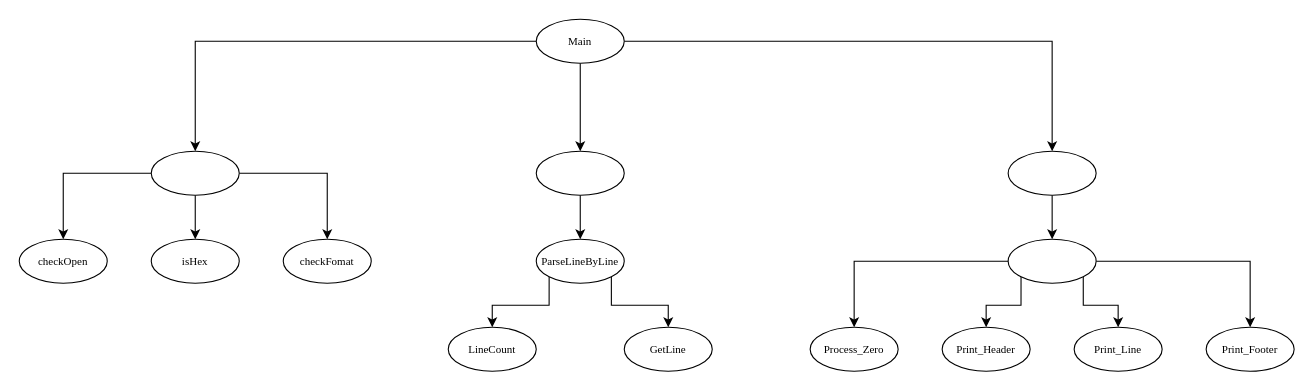
This 1313x391 diagram has some shape labels left out. The shapes that lost their labels are listed below. From the top down, each one's centre as x and y in pixels, then its label:
the point at 194,172: ErrorChecking
the point at 579,172: DataConversion
the point at 1051,172: DisplayData
the point at 1051,260: Display
